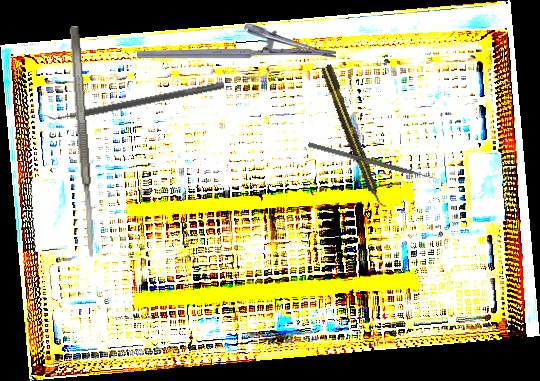Handpiece: (318, 62, 388, 212)
Needle Holder: (137, 23, 336, 59)
Pusher: (307, 142, 443, 183)
Spatula Surgical: (42, 73, 225, 127), (67, 25, 98, 258)
